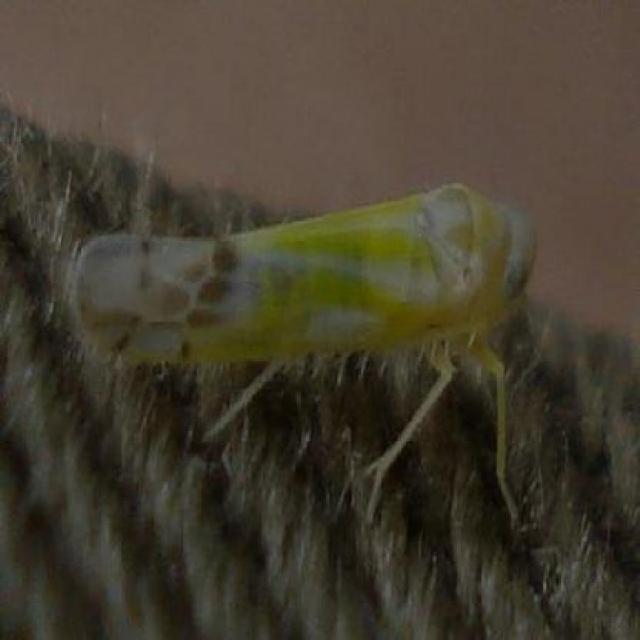green-leafhopper: (75, 188, 537, 389)
